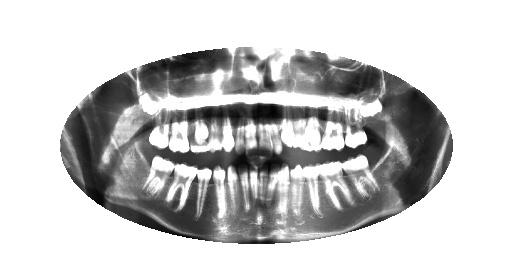Cavity: (255, 106, 277, 159), (190, 111, 210, 156), (241, 114, 261, 158)
